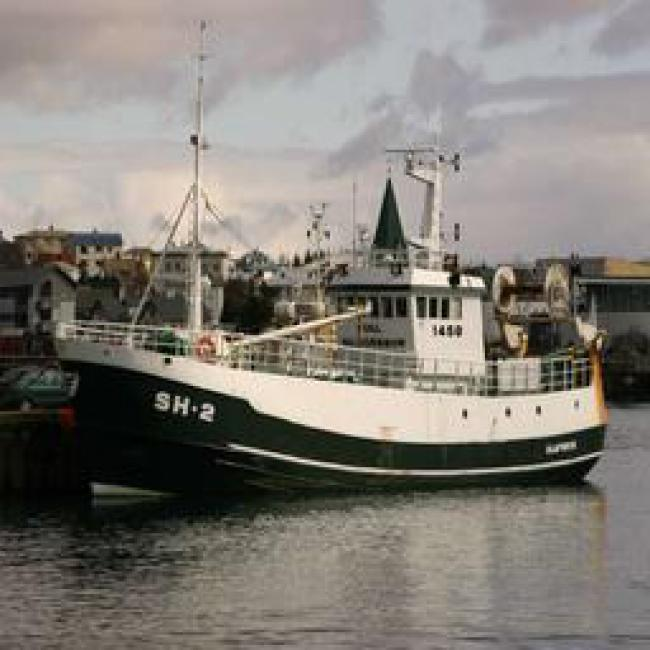Ship: (36, 292, 627, 497)
